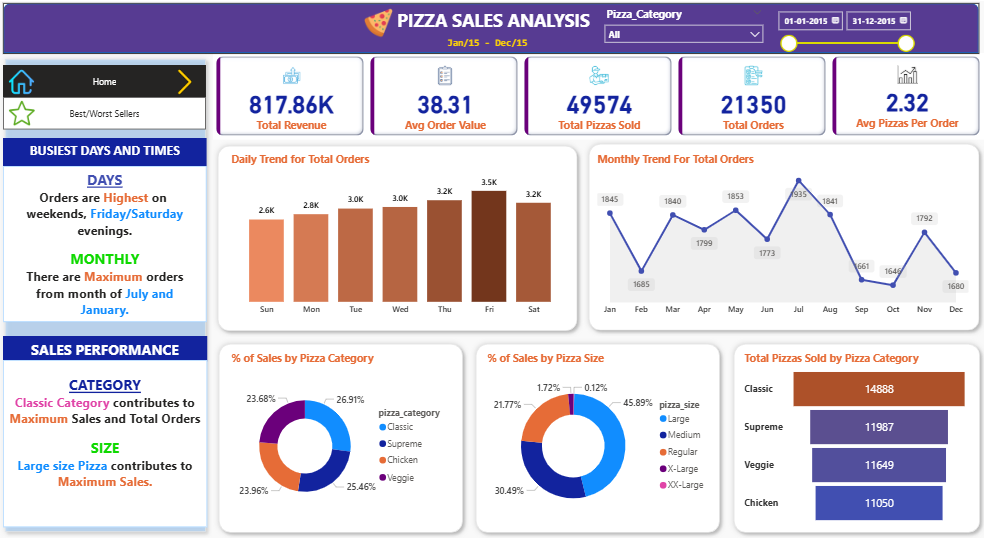

The dashboard page shown, as its layout file describes it:
{"tool":"powerbi","page":{"name":"Home","canvas":[1500,820],"ordinal":0},"visuals":[{"type":"cardVisual","fields":{"Data":["pizza_sales csv.Total Revenue","pizza_sales csv.Avg Order Value","pizza_sales csv.Total Pizzas Sold","pizza_sales csv.Total Orders","pizza_sales csv.Avg Pizzas Per Order"]},"box":[323.2,86.8,1168.8,131],"z":0},{"type":"shape","box":[6.8,10.2,1476.7,76.6],"z":1000},{"type":"textbox","box":[517.2,13.6,461,73.2],"z":2000},{"type":"textbox","box":[673.7,56.1,161.6,30.6],"z":3000},{"type":"image","box":[551.2,13.6,68,54.4],"z":4000},{"type":"shape","box":[321.5,217.8,561.4,297.7],"z":5000},{"type":"columnChart","title":"Daily Trend for Total Orders","fields":{"Category":["pizza_sales csv.Order Day"],"Y":["pizza_sales csv.Total Orders"]},"box":[346.7,236.7,521.7,256.7],"z":6000},{"type":"shape","box":[883.3,215,608.3,300],"z":7000},{"type":"areaChart","title":"Monthly Trend For Total Orders","fields":{"Category":["pizza_sales csv.Order Month"],"Y":["pizza_sales csv.Total Orders"]},"box":[900,236.7,571.7,256.7],"z":8000},{"type":"shape","box":[323.3,516.7,386.7,303.3],"z":9000},{"type":"shape","box":[713.3,516.7,386.7,303.3],"z":10000},{"type":"shape","box":[1103.3,516.7,390,303.3],"z":11000},{"type":"donutChart","title":"% of Sales by Pizza Category","fields":{"Category":["pizza_sales csv.pizza_category"],"Y":["pizza_sales csv.Total Revenue"]},"box":[346.7,536.7,341.7,266.7],"z":12000},{"type":"donutChart","title":"% of Sales by Pizza Size","fields":{"Y":["pizza_sales csv.Total Revenue"],"Category":["pizza_sales csv.pizza_size"]},"box":[733.3,536.7,350,266.7],"z":13000},{"type":"funnel","title":"Total Pizzas Sold by Pizza Category","fields":{"Category":["pizza_sales csv.pizza_category"],"Y":["pizza_sales csv.Total Pizzas Sold"]},"box":[1123.3,536.7,348.3,266.7],"z":14000},{"type":"shape","box":[0,86.7,321.7,733.3],"z":15000},{"type":"textbox","box":[6.8,214.4,307.9,42.5],"z":16000},{"type":"textbox","box":[6.8,256.9,307.9,236.5],"z":17000},{"type":"textbox","box":[6.1,514.4,308.6,37.8],"z":18000},{"type":"textbox","box":[6.1,550.7,308.6,252.7],"z":19000},{"type":"slicer","fields":{"Values":["pizza_sales csv.pizza_category"]},"box":[906.7,10,260,93.3],"z":20000},{"type":"slicer","fields":{"Values":["pizza_sales csv.order_date"]},"box":[1166.5,13.6,226.9,74.1],"z":21000},{"type":"pageNavigator","box":[6.8,103.8,307.9,49.3],"z":22000},{"type":"pageNavigator","box":[6.8,153.1,307.9,49.3],"z":23000},{"type":"image","box":[248.4,105.5,66.3,47.6],"z":24000},{"type":"image","box":[6.8,153.1,56.1,49.3],"z":25000},{"type":"image","box":[6.8,105.5,56.1,47.6],"z":26000}]}

Visuals, with their boxes in screenshot pixels (x1, y1, x2, y2), scaled from the page's 1500x820 canvas onto the 984x538 screenshot:
cardVisual - pizza_sales csv.Total Revenue x pizza_sales csv.Avg Order Value: region(212, 57, 979, 143)
shape: region(4, 7, 973, 57)
textbox: region(339, 9, 642, 57)
textbox: region(442, 37, 548, 57)
image: region(362, 9, 406, 45)
shape: region(211, 143, 579, 338)
"Daily Trend for Total Orders" columnChart: region(227, 155, 570, 324)
shape: region(579, 141, 978, 338)
"Monthly Trend For Total Orders" areaChart: region(590, 155, 965, 324)
shape: region(212, 339, 466, 537)
shape: region(468, 339, 722, 537)
shape: region(724, 339, 980, 537)
"% of Sales by Pizza Category" donutChart: region(227, 352, 452, 527)
"% of Sales by Pizza Size" donutChart: region(481, 352, 711, 527)
"Total Pizzas Sold by Pizza Category" funnel: region(737, 352, 965, 527)
shape: region(0, 57, 211, 537)
textbox: region(4, 141, 206, 169)
textbox: region(4, 169, 206, 324)
textbox: region(4, 337, 206, 362)
textbox: region(4, 361, 206, 527)
slicer - pizza_sales csv.pizza_category: region(595, 7, 765, 68)
slicer - pizza_sales csv.order_date: region(765, 9, 914, 58)
pageNavigator: region(4, 68, 206, 100)
pageNavigator: region(4, 100, 206, 133)
image: region(163, 69, 206, 100)
image: region(4, 100, 41, 133)
image: region(4, 69, 41, 100)
